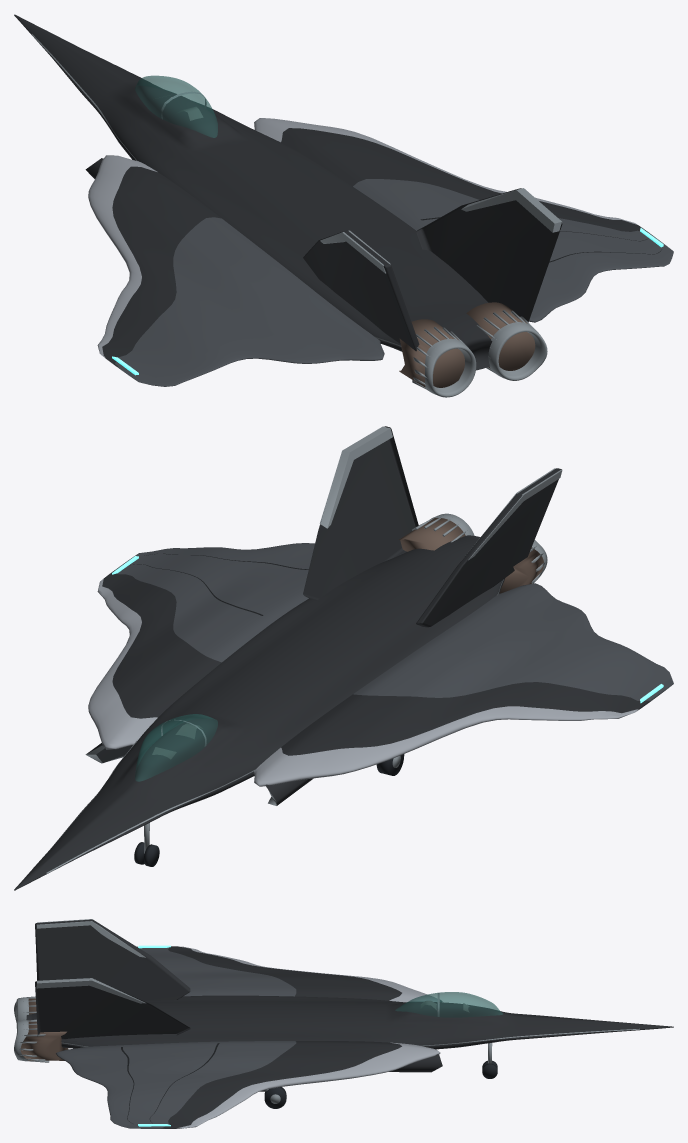
Rendered from reference-fighter.glb.
The picture shows the model from 3 angles, top to bottom: view 1: azimuth 30°, elevation 25°; view 2: azimuth 150°, elevation 25°; view 3: azimuth 270°, elevation 25°; orthographic projection. The views are drawn at different scales.
Parts seen in each view (by area): view 1: Continuous centrebody and pointed radome, Curved mainplane · S, Curved mainplane · P, Swept canted tail.001, Swept canted tail, AileronSampleS, Low optical canopy, AileronSampleP, Titanium nozzle outer sleeve, Titanium nozzle outer sleeve.001, Machined nozzle lip and hollow throat.001, Machined nozzle lip and hollow throat (+3 smaller); view 2: Continuous centrebody and pointed radome, Curved mainplane · S, Curved mainplane · P, Swept canted tail.001, Swept canted tail, Low optical canopy, AileronSampleS, Canted tail leading insert.001, AileronSampleP, Titanium nozzle outer sleeve.001, Titanium nozzle outer sleeve, Canted tail leading insert; view 3: Continuous centrebody and pointed radome, Curved mainplane · P, Curved mainplane · S, Swept canted tail, Swept canted tail.001, Low optical canopy, AileronSampleP, Titanium nozzle outer sleeve.001, Canted tail leading insert.001, Canted tail leading insert, Intake lip / duct / integrated fairing.005, Machined nozzle lip and hollow throat.001 (+3 smaller).
Boxes of the visible parts, bbox=[...] form: Continuous centrebody and pointed radome: bbox=[14, 14, 492, 370]; Curved mainplane · S: bbox=[88, 155, 384, 385]; Curved mainplane · P: bbox=[254, 118, 673, 322]; Swept canted tail.001: bbox=[416, 188, 562, 321]; Swept canted tail: bbox=[303, 230, 419, 351]; AileronSampleS: bbox=[144, 333, 315, 386]; Low optical canopy: bbox=[135, 75, 217, 137]; AileronSampleP: bbox=[546, 251, 671, 299]; Titanium nozzle outer sleeve: bbox=[399, 319, 464, 387]; Titanium nozzle outer sleeve.001: bbox=[466, 302, 535, 370]; Machined nozzle lip and hollow throat.001: bbox=[488, 322, 547, 380]; Machined nozzle lip and hollow throat: bbox=[424, 338, 476, 397]; Continuous centrebody and pointed radome: bbox=[14, 535, 504, 890]; Curved mainplane · S: bbox=[253, 583, 673, 786]; Curved mainplane · P: bbox=[88, 543, 314, 749]; Swept canted tail.001: bbox=[303, 426, 418, 601]; Swept canted tail: bbox=[416, 468, 561, 627]; Low optical canopy: bbox=[135, 714, 217, 781]; AileronSampleS: bbox=[543, 607, 671, 682]; Canted tail leading insert.001: bbox=[319, 426, 392, 528]; AileronSampleP: bbox=[145, 543, 314, 561]; Titanium nozzle outer sleeve.001: bbox=[399, 518, 465, 551]; Titanium nozzle outer sleeve: bbox=[499, 547, 543, 593]; Canted tail leading insert: bbox=[467, 468, 562, 560]; Continuous centrebody and pointed radome: bbox=[26, 995, 673, 1049]; Curved mainplane · P: bbox=[56, 1041, 440, 1128]; Curved mainplane · S: bbox=[137, 946, 437, 1002]; Swept canted tail: bbox=[35, 919, 190, 1000]; Swept canted tail.001: bbox=[35, 979, 190, 1041]; Low optical canopy: bbox=[395, 992, 502, 1017]; AileronSampleP: bbox=[74, 1068, 132, 1125]; Titanium nozzle outer sleeve.001: bbox=[20, 1020, 68, 1060]; Canted tail leading insert.001: bbox=[36, 978, 145, 1003]; Canted tail leading insert: bbox=[37, 919, 145, 957]; Intake lip / duct / integrated fairing.005: bbox=[389, 1054, 442, 1072]; Machined nozzle lip and hollow throat.001: bbox=[14, 1020, 28, 1061].
Size of the model in its own units: 14.5 by 4.73 by 22.28.
